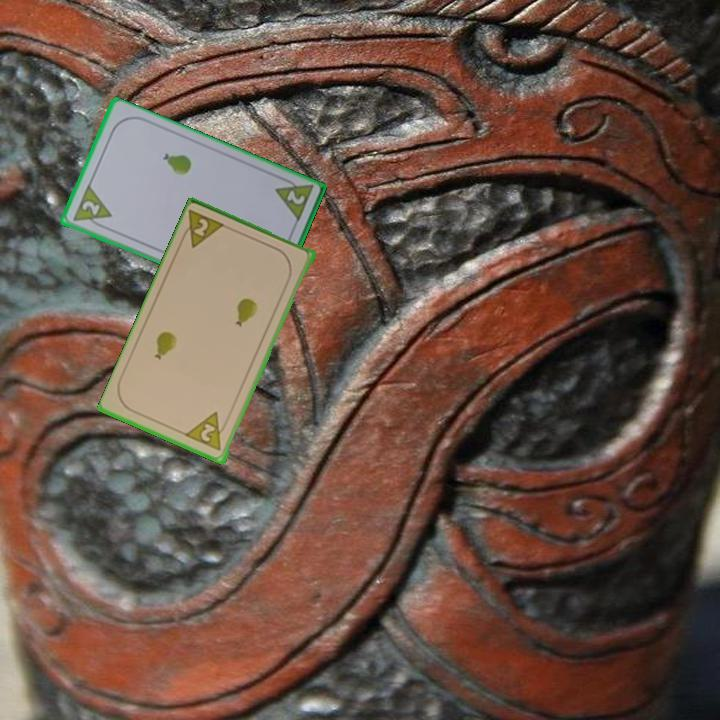2p: (271, 173, 316, 225), (177, 207, 230, 251), (69, 183, 115, 232), (183, 408, 231, 454)
